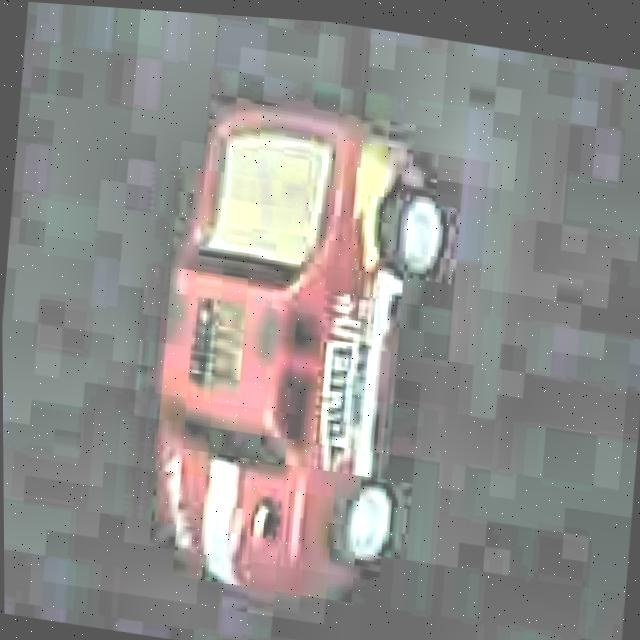car: (133, 89, 459, 621)
